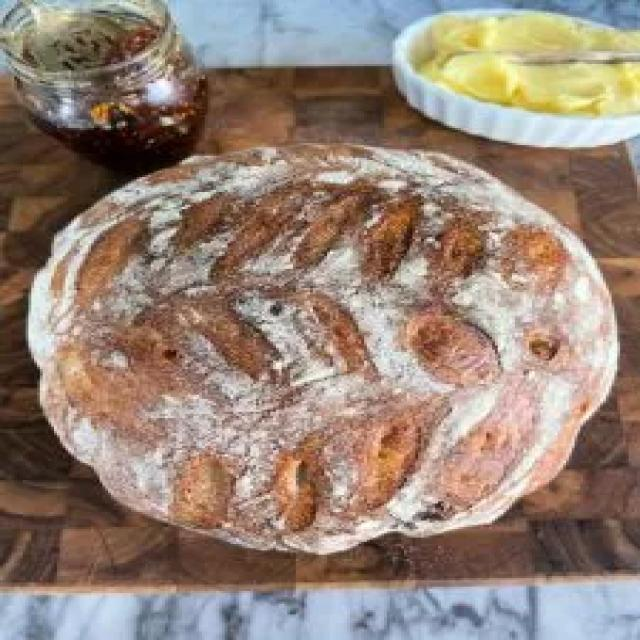Maltese-Bread: (28, 145, 614, 553)
